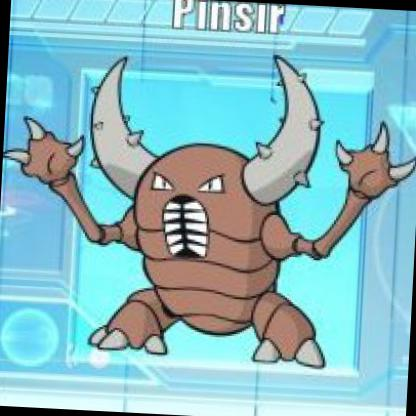Pinsir: (23, 39, 416, 416)
